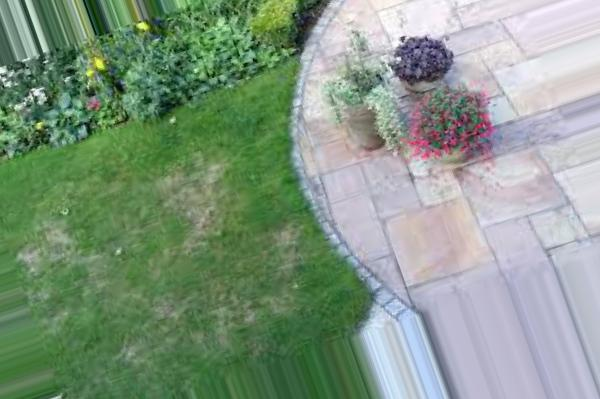patch: (183, 174, 204, 202), (44, 239, 78, 256), (196, 214, 217, 232)
